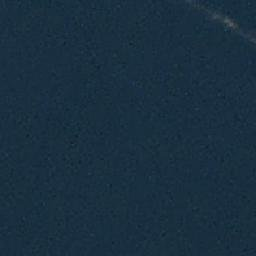debris: (215, 15, 242, 30), (241, 31, 255, 41)
